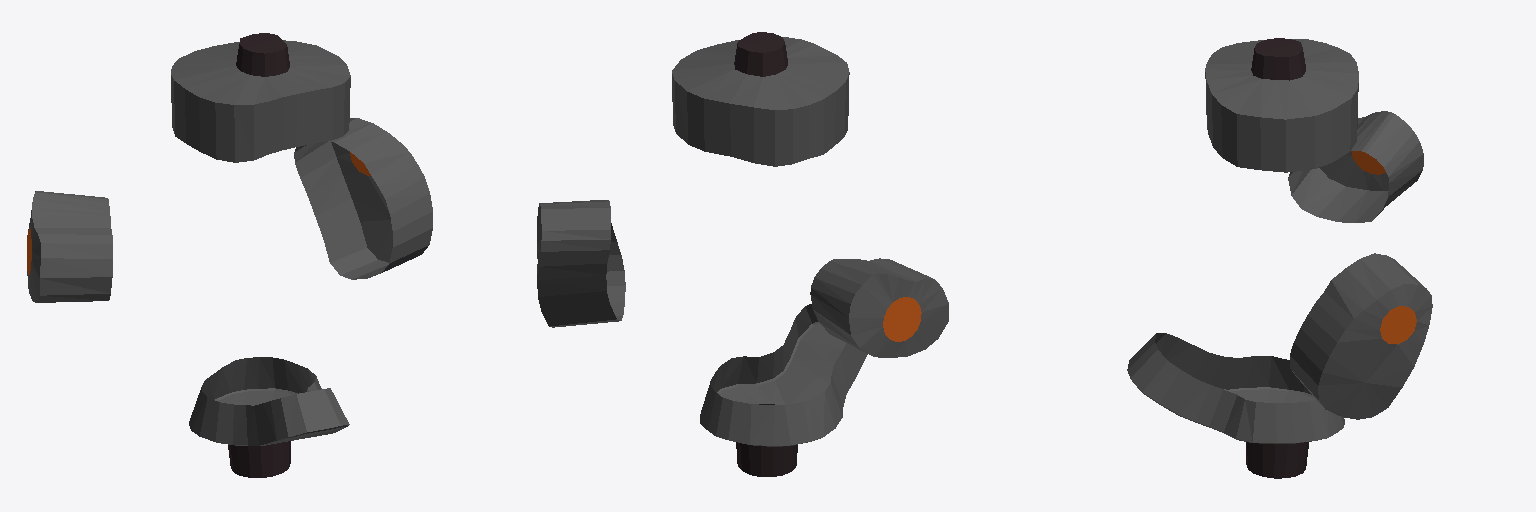
Rendered from LavaPlanet.obj.
The picture shows the model from 3 angles: view 1: azimuth 30°, elevation 25°; view 2: azimuth 150°, elevation 25°; view 3: azimuth 270°, elevation 25°; orthographic projection.
Visible parts, largest first — view 1: Collision_Circle.001; view 2: Collision_Circle.001; view 3: Collision_Circle.001.
Boxes of the visible parts, x1=… form: Collision_Circle.001: x1=27, y1=33, x2=432, y2=477; Collision_Circle.001: x1=537, y1=32, x2=948, y2=476; Collision_Circle.001: x1=1127, y1=38, x2=1432, y2=478.
Size of the model in its own units: 3966 by 4033 by 2640.